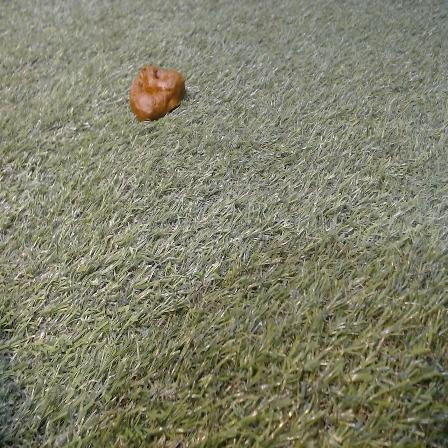dog-poop: (130, 58, 182, 120)
